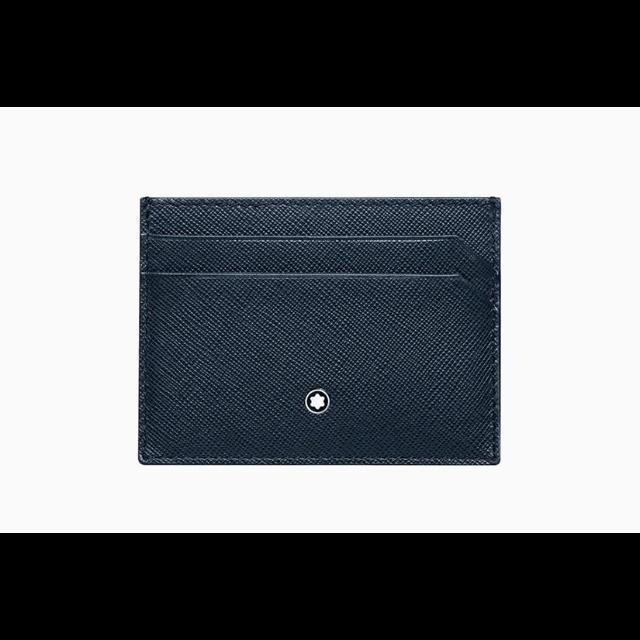Wallet: (138, 194, 500, 466)
